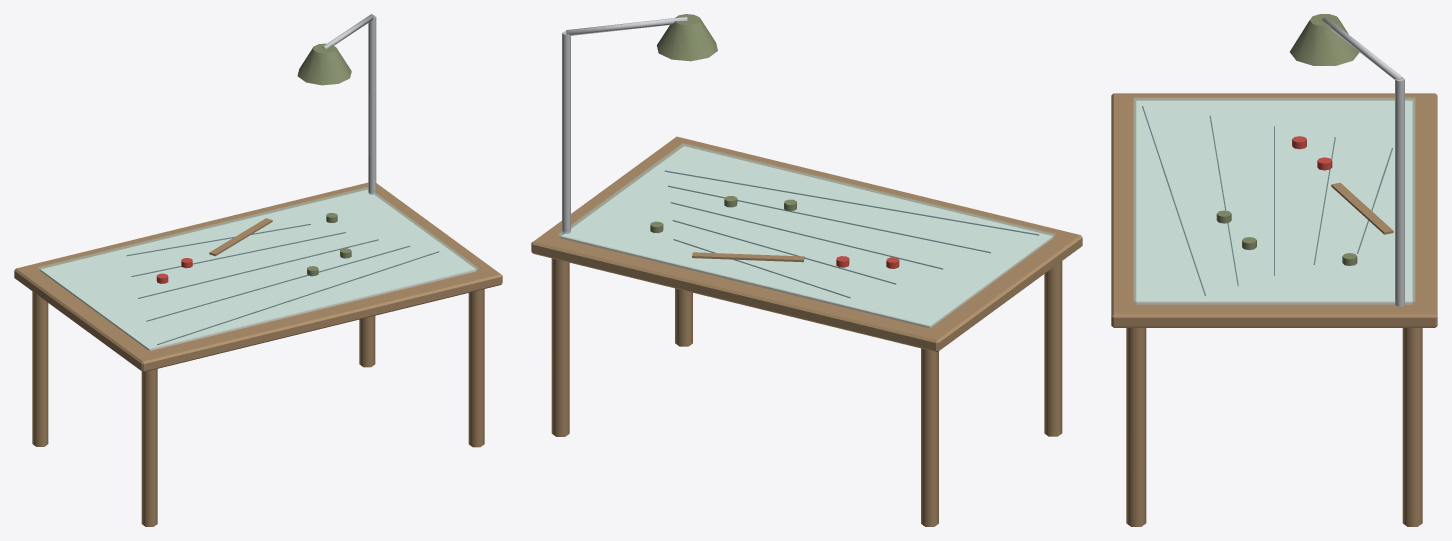
The model's file is map_table.glb.
The picture shows the model from 3 angles, left to right: view 1: azimuth 30°, elevation 25°; view 2: azimuth 150°, elevation 25°; view 3: azimuth 270°, elevation 25°; orthographic projection. The views are drawn at different scales.
Parts seen in each view (by area): view 1: map_table; view 2: map_table; view 3: map_table.
Part boxes in pixels (x1,y1,x2,y2): map_table: (14, 14, 502, 526); map_table: (531, 14, 1082, 526); map_table: (1111, 14, 1437, 526).
Bounding box in the file's own units: 2.1 × 2.01 × 1.3.
